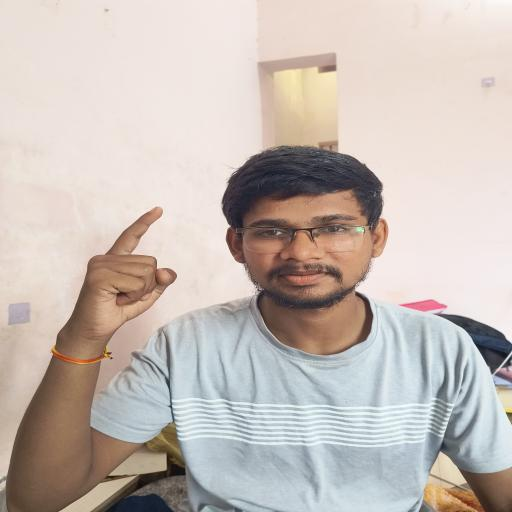What: (56, 193, 210, 342)
